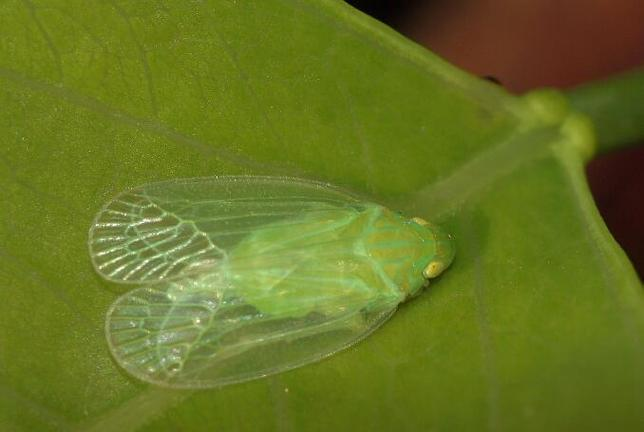Delphacidae: (88, 174, 456, 389)
